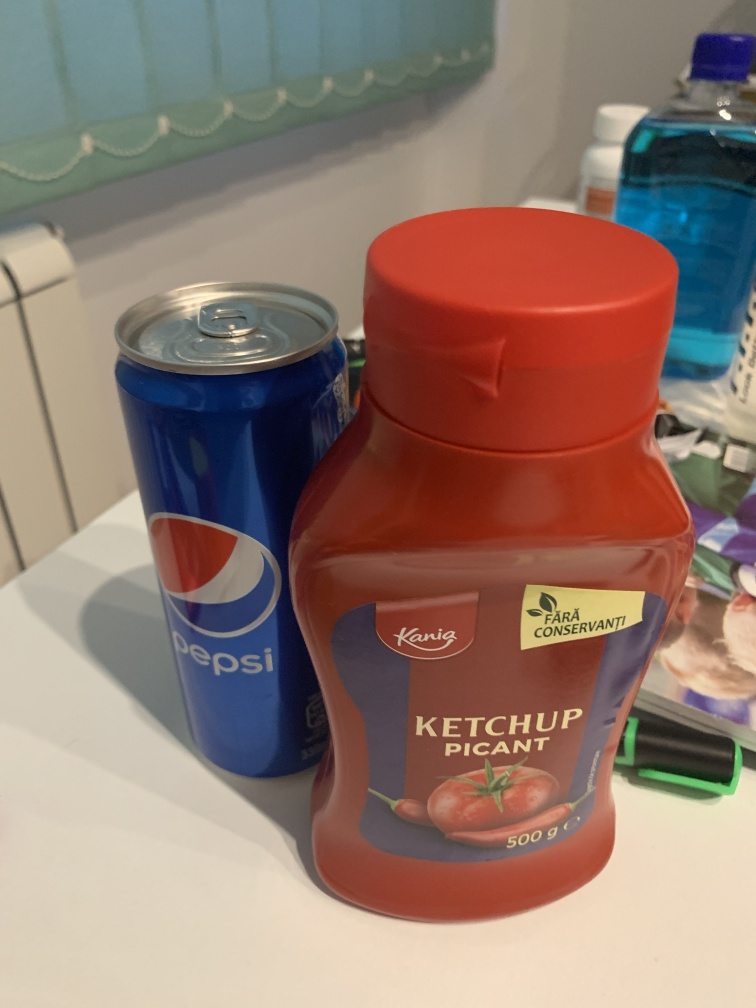ketchup: (274, 195, 699, 950)
pepsi: (109, 279, 355, 789)
